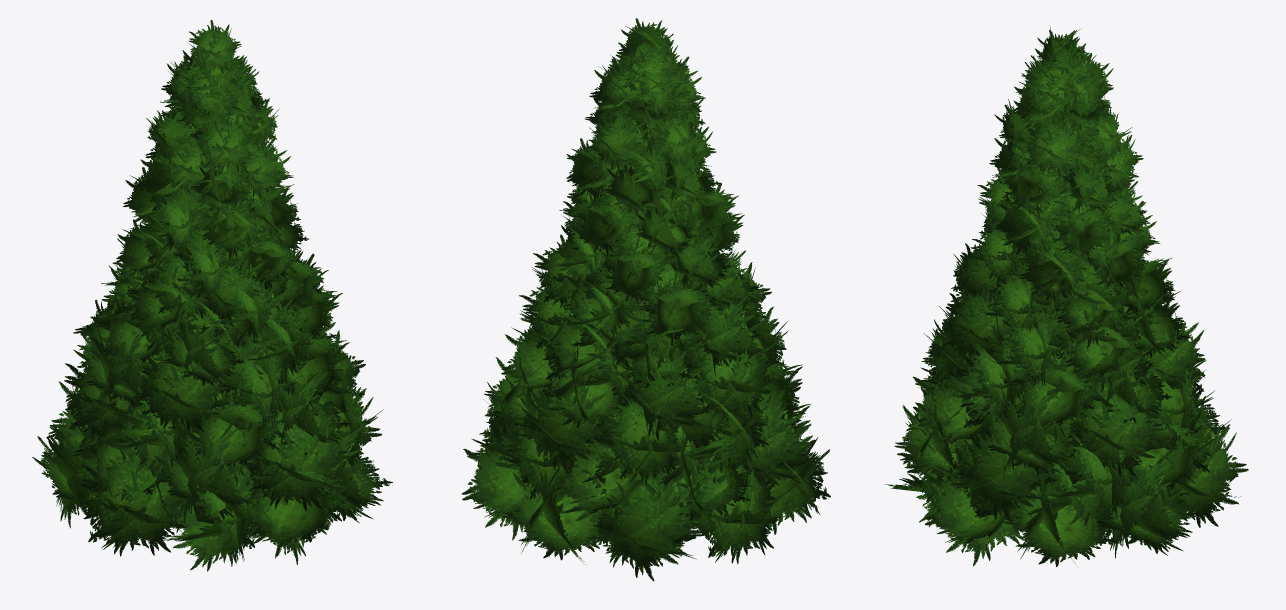
The model's file is pine_tree_1k.glb.
The picture shows the model from 3 angles, left to right: view 1: azimuth 30°, elevation 25°; view 2: azimuth 150°, elevation 25°; view 3: azimuth 270°, elevation 25°; orthographic projection. The views are drawn at different scales.
Parts seen in each view (by area): view 1: pine_tree; view 2: pine_tree; view 3: pine_tree.
Part boxes in pixels (bbox=[...]): pine_tree: bbox=[32, 20, 392, 571]; pine_tree: bbox=[462, 18, 830, 581]; pine_tree: bbox=[884, 25, 1248, 566].
Size of the model in its own units: 10.7 by 15.79 by 10.98.
2 materials, 2 textured.
